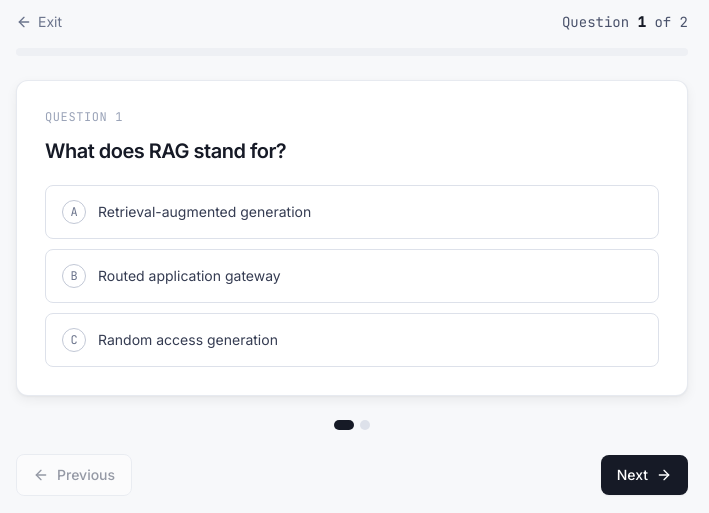
Test case: QuizPlayPage › shows a foreign-question 400 response as a validation error
The image size is (709, 513).
Expected: the heading "What does RAG stand for?" is shown, [45,139,286,163]
Click the button "A Retrieval-augmented generation" at (205, 212), box [45,185,659,239]
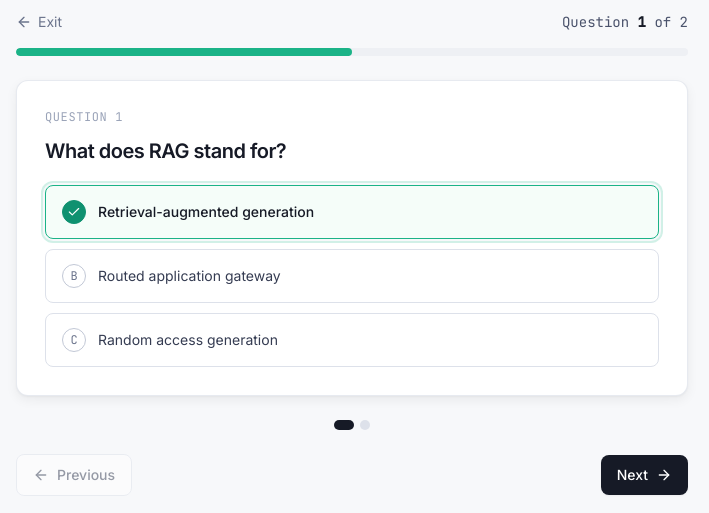
Click the button "Next" at (644, 475), box [601,455,688,495]
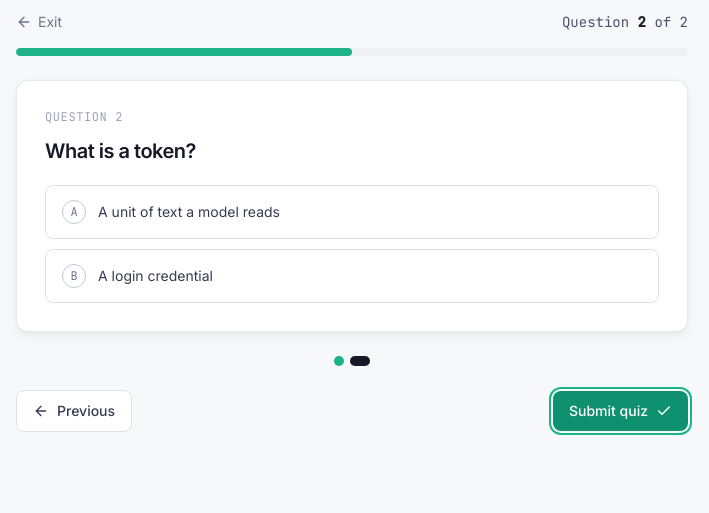
Result: the heading "What is a token?" is shown at [45,139,196,163]
Click the button "Submit quiz" at (620, 411), box [553,391,688,431]
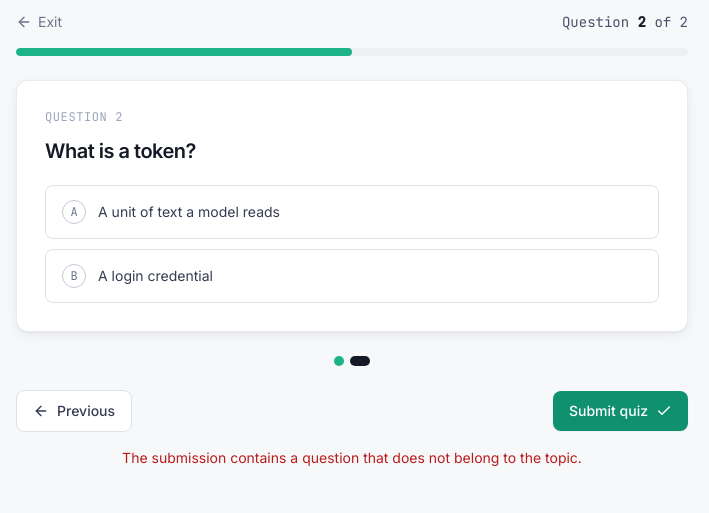
Result: the message reads "The submission contains a question that does not belong to the topic." at [122,449,582,466]
